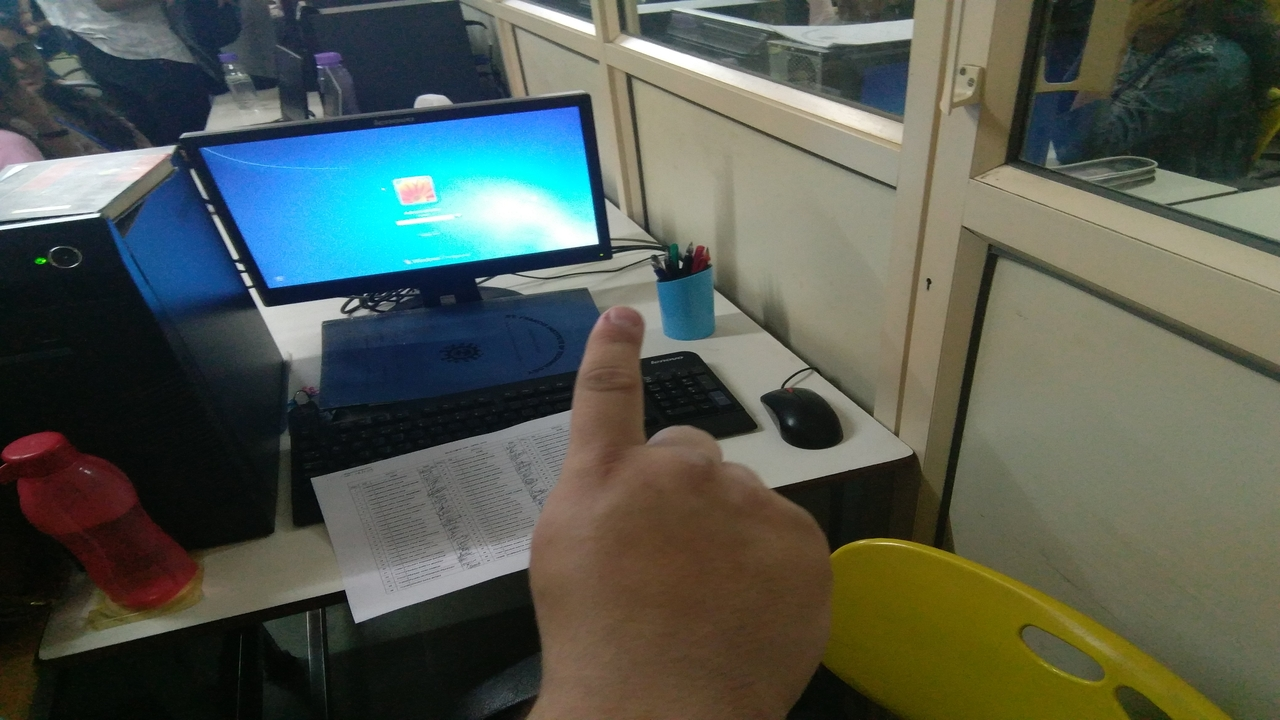fingertip: (584, 298, 648, 350)
